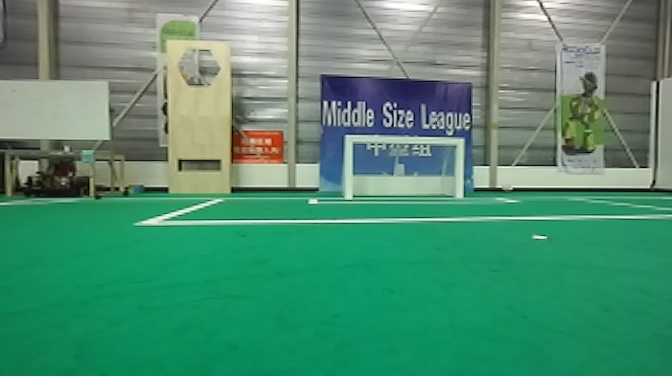ball: (499, 181, 517, 194)
goalpost: (339, 124, 359, 201), (447, 133, 466, 209)
